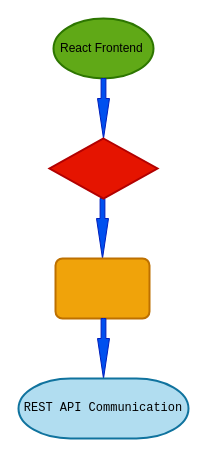
Some shapes in this 206 by 456 pixel diagram are drawn without their labels. The shapes that lost their labels are listed below. From the top down, each one's centre as x and y in pixels, then its label:
At pixel 103 168: "API Gateway".
At pixel 102 288: "Individual Microservices".
